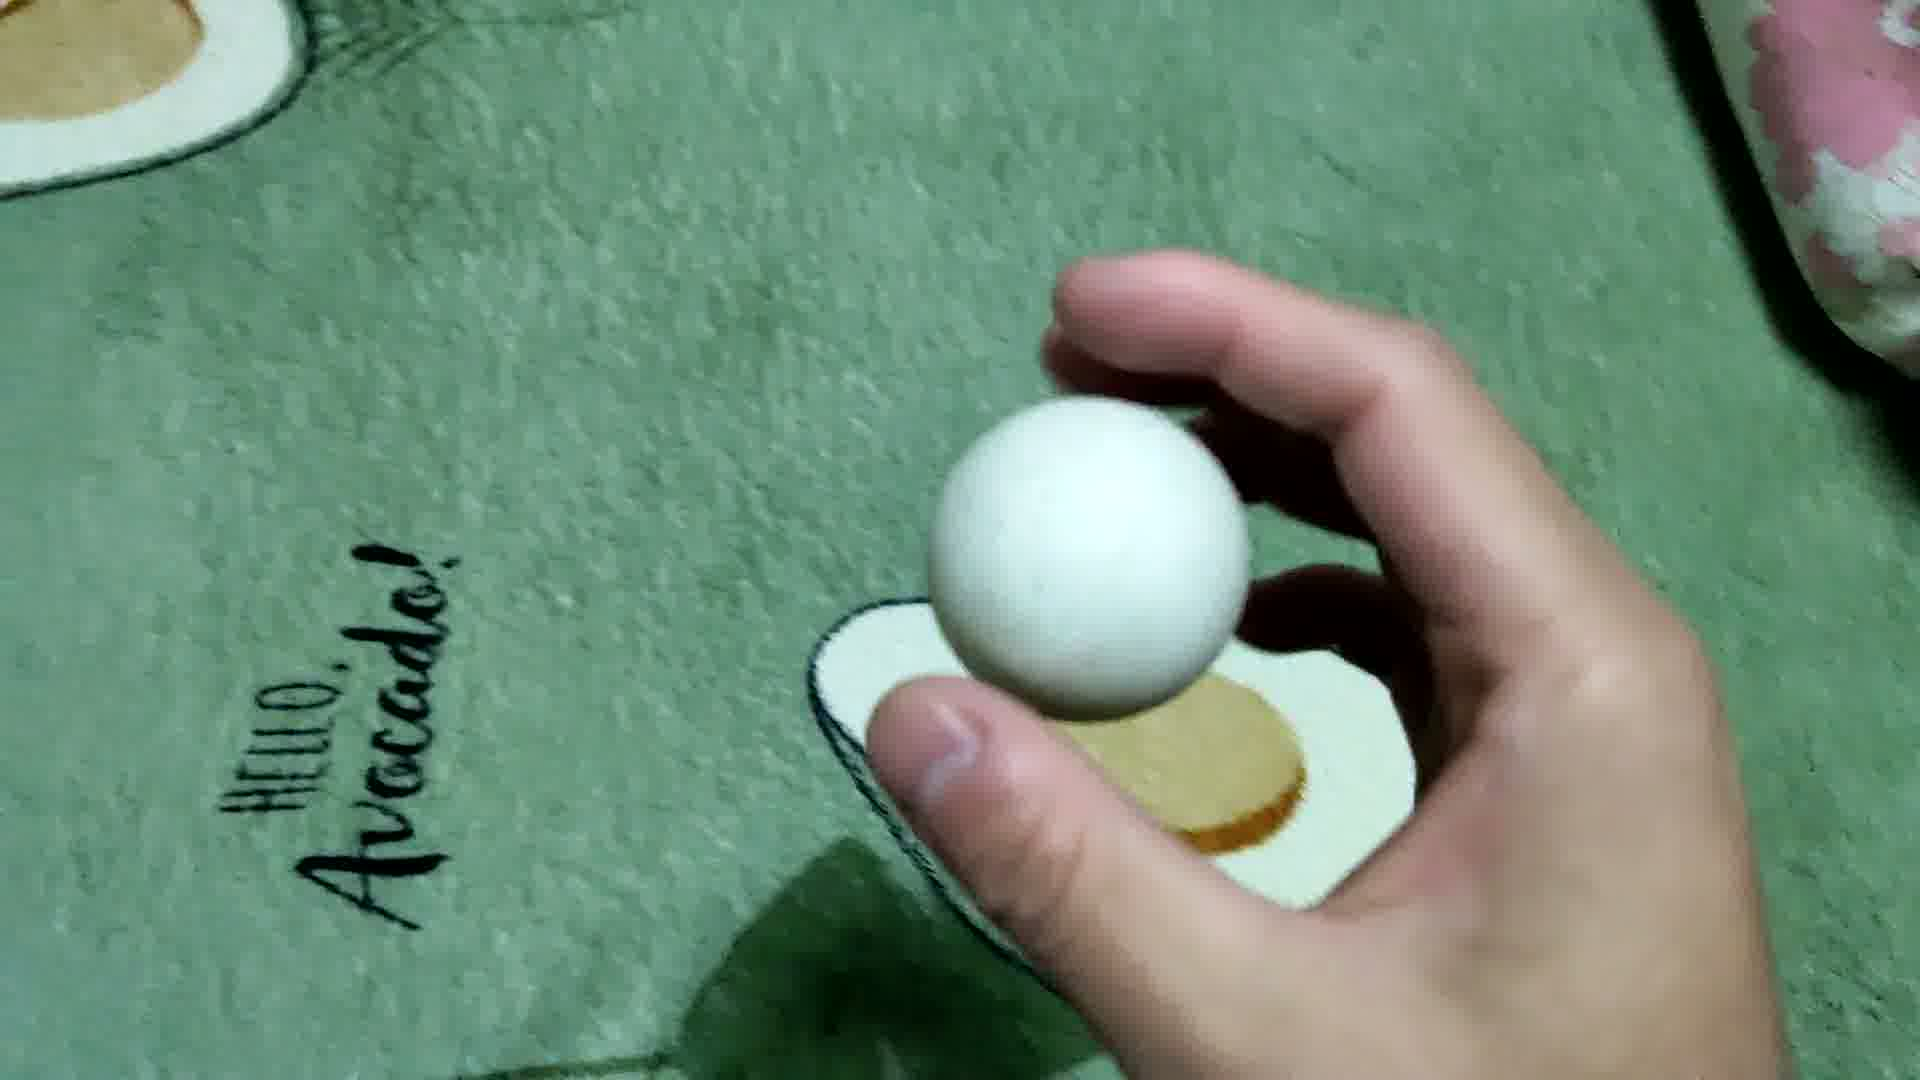Ball: (930, 392, 1255, 721)
